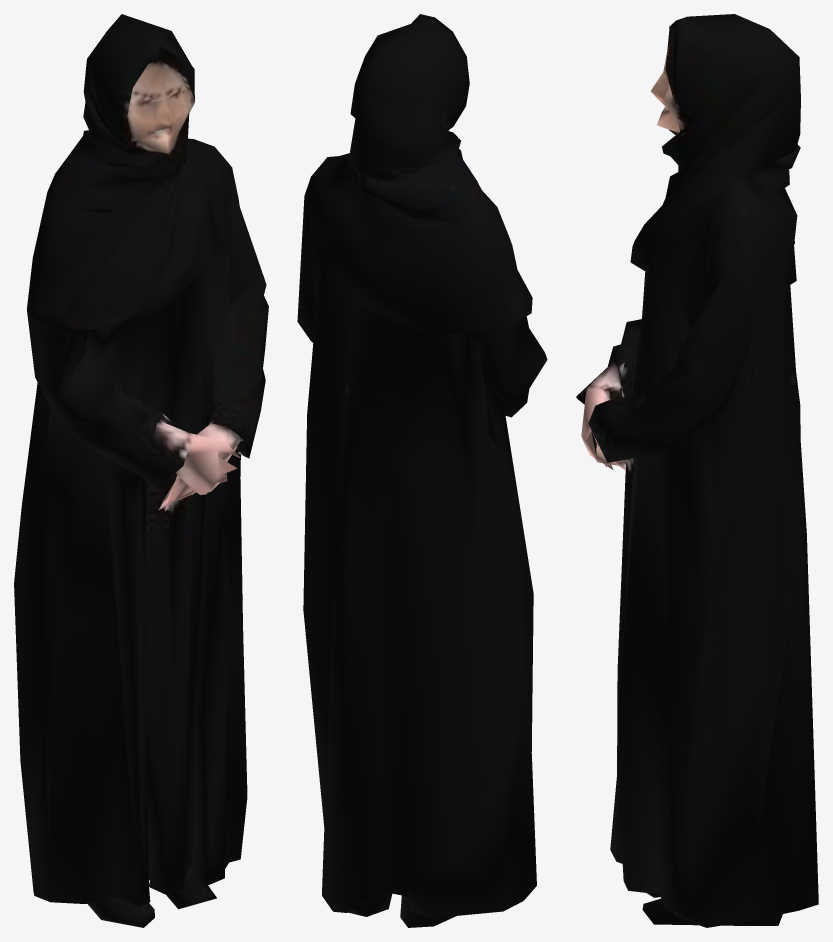
File: gcc-woman-1.glb
The picture shows the model from 3 angles, left to right: view 1: azimuth 30°, elevation 25°; view 2: azimuth 150°, elevation 25°; view 3: azimuth 270°, elevation 25°; orthographic projection. The views are drawn at different scales.
Visible parts, largest first — view 1: Mesh_0; view 2: Mesh_0; view 3: Mesh_0.
Part boxes in pixels (x1,y1,x2,y2): Mesh_0: (14,14,268,927); Mesh_0: (297,14,547,927); Mesh_0: (576,14,818,927).
Size of the model in its own units: 0.5145 by 1.9 by 0.4689.
1 material, 1 textured.
